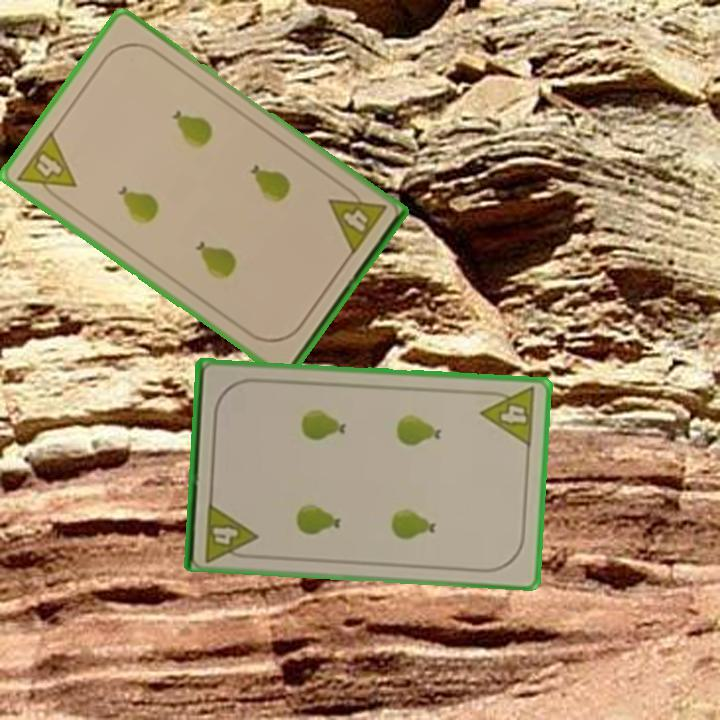4p: (13, 127, 79, 207), (324, 180, 390, 258), (478, 384, 539, 449), (201, 498, 260, 563)
